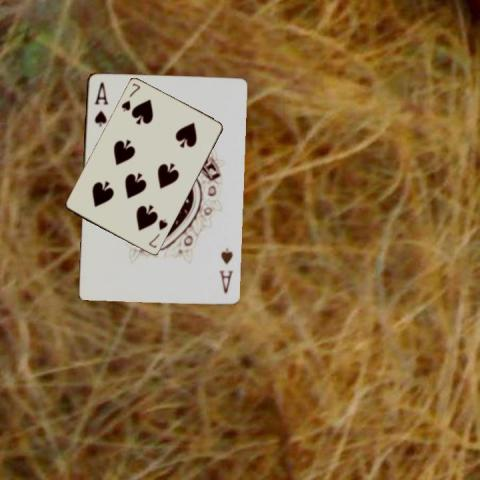7s: (118, 81, 142, 113), (146, 216, 169, 249)
As: (216, 244, 234, 295), (91, 78, 109, 128)
